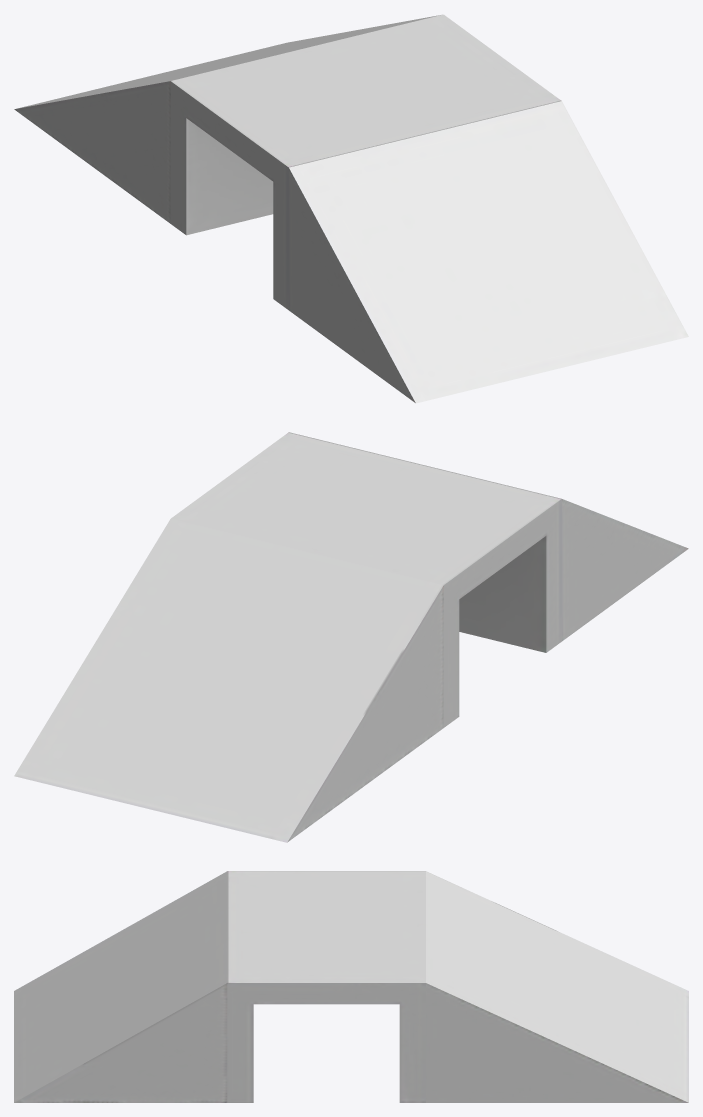
File: ramp.glb
3 renders of one model, top to bottom at view 1: azimuth 30°, elevation 25°; view 2: azimuth 150°, elevation 25°; view 3: azimuth 270°, elevation 25°, orthographic. The views are drawn at different scales.
Visible parts, largest first — view 1: Cube.001; view 2: Cube.001; view 3: Cube.001.
Boxes of the visible parts, x1=… form: Cube.001: x1=14, y1=14, x2=688, y2=403; Cube.001: x1=14, y1=432, x2=688, y2=842; Cube.001: x1=14, y1=871, x2=688, y2=1102.
Bounding box in the file's own units: 8 × 4 × 20.4.
Materials: 1 (1 with a texture image).
